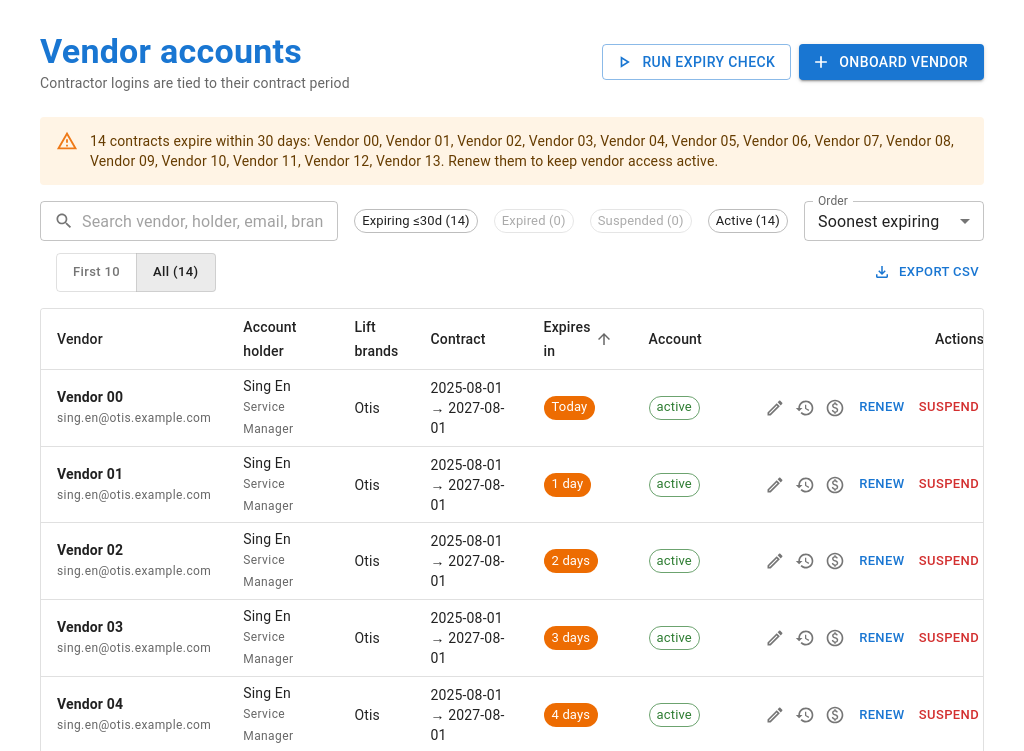
Test: AdminVendorPage — filters › the row cap shows the first 10 until All is chosen
Click the button "First 10": x=97, y=272 [56,253,137,292]
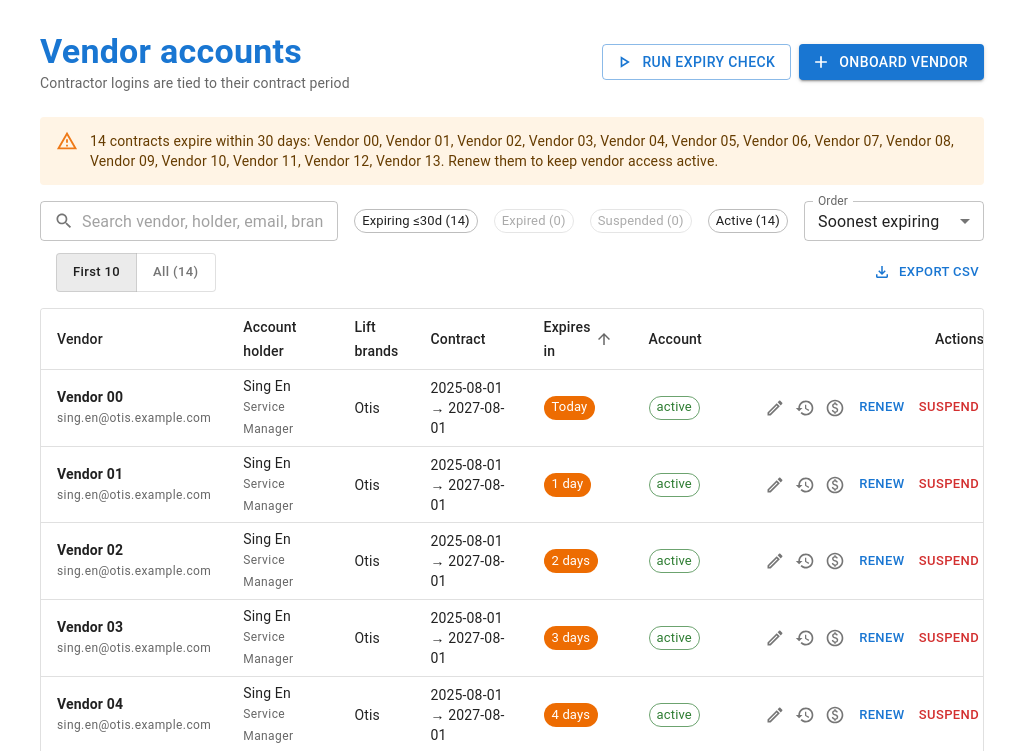
Expected: the text "Vendor 12" is not shown
Click the button "All (14)": x=176, y=272 [136,253,216,292]
(page scrolled)
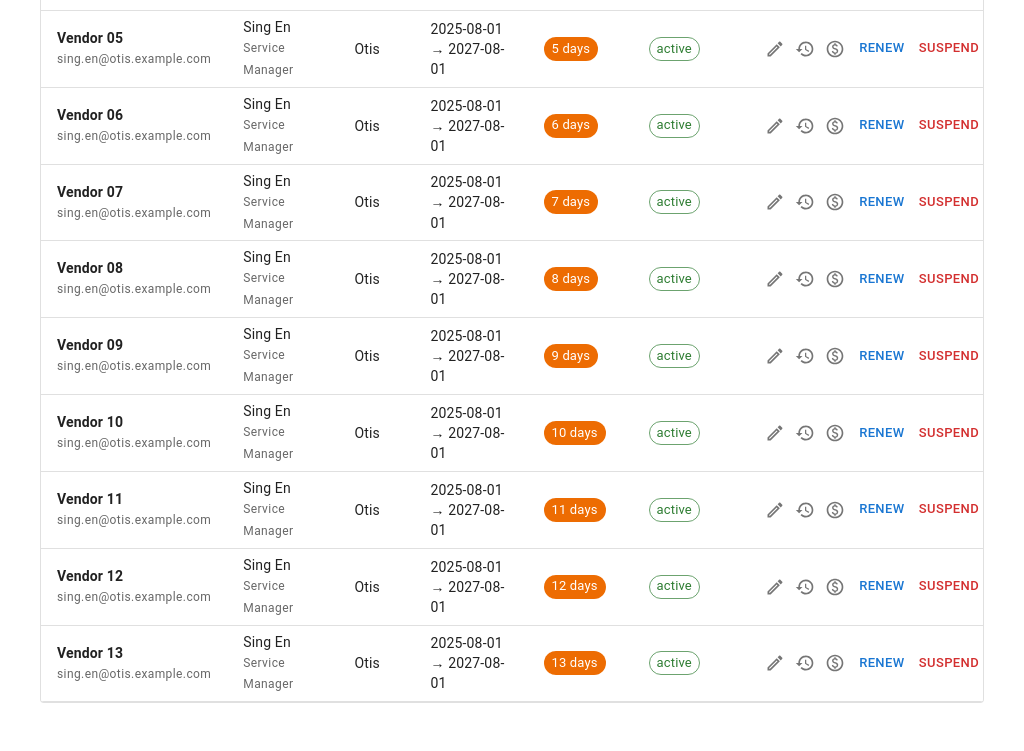
Result: the text "Vendor 12" is shown at [57,568,123,584]
